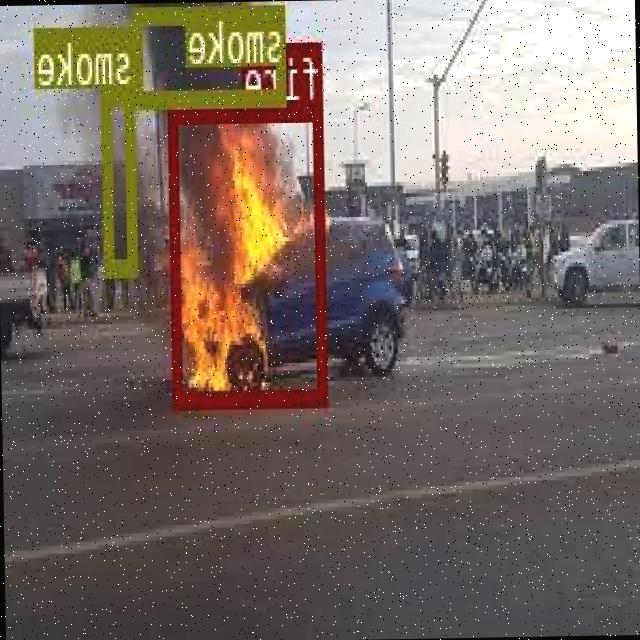fire: (171, 101, 329, 405)
smoke: (134, 2, 288, 104), (104, 86, 140, 272)
